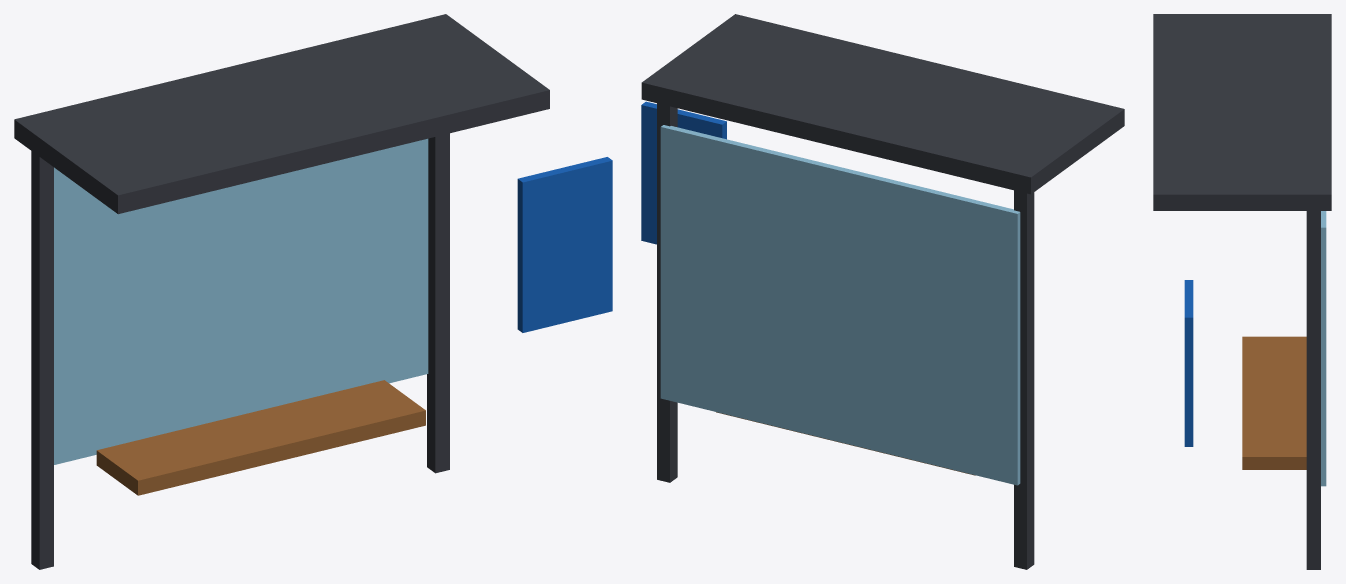
Rendered from bus_stop.glb.
The picture shows the model from 3 angles, left to right: view 1: azimuth 30°, elevation 25°; view 2: azimuth 150°, elevation 25°; view 3: azimuth 270°, elevation 25°; orthographic projection. The views are drawn at different scales.
Parts seen in each view (by area): view 1: bus_stop; view 2: bus_stop; view 3: bus_stop.
Part boxes in pixels (x1,y1,x2,y2): bus_stop: [14, 14, 612, 569]; bus_stop: [641, 14, 1124, 569]; bus_stop: [1153, 14, 1331, 569].
Size of the model in its own units: 2.85 by 2.35 by 1.
